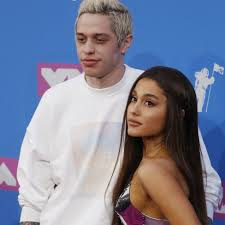people: (48, 1, 138, 225), (124, 67, 205, 225)
